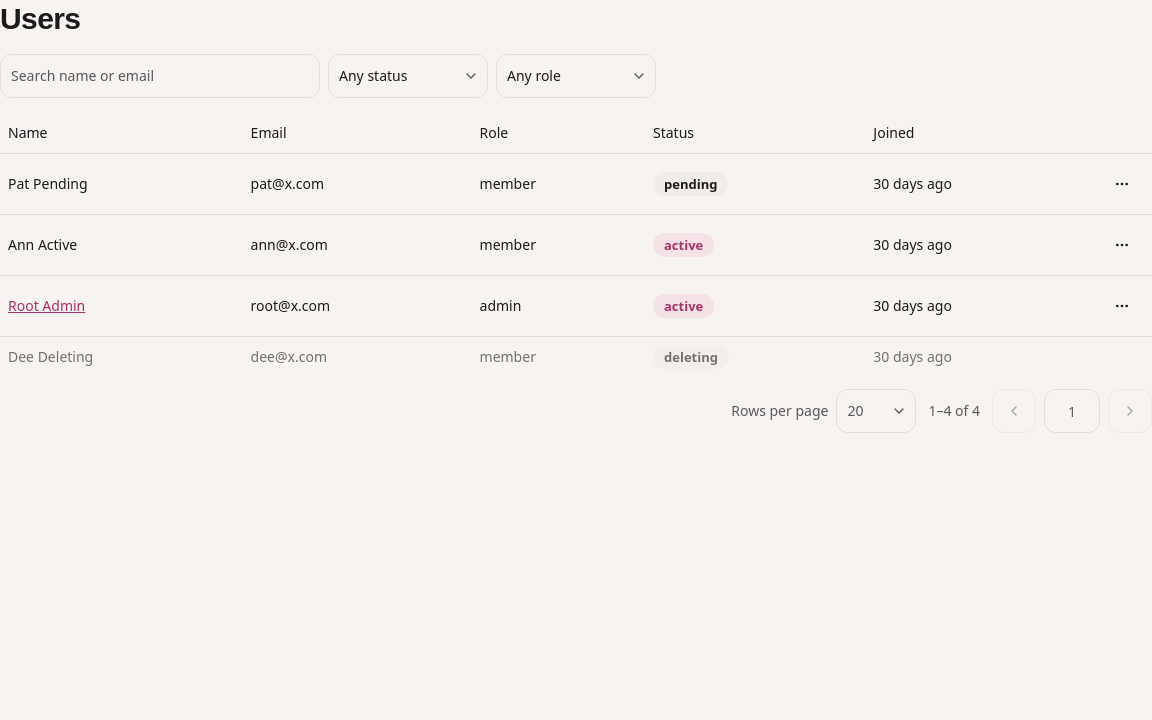
Test: shows the last_admin refusal inline and keeps the row
Click the button named "Actions for Ann Active" at (1122, 245), box [1100,223,1144,267]
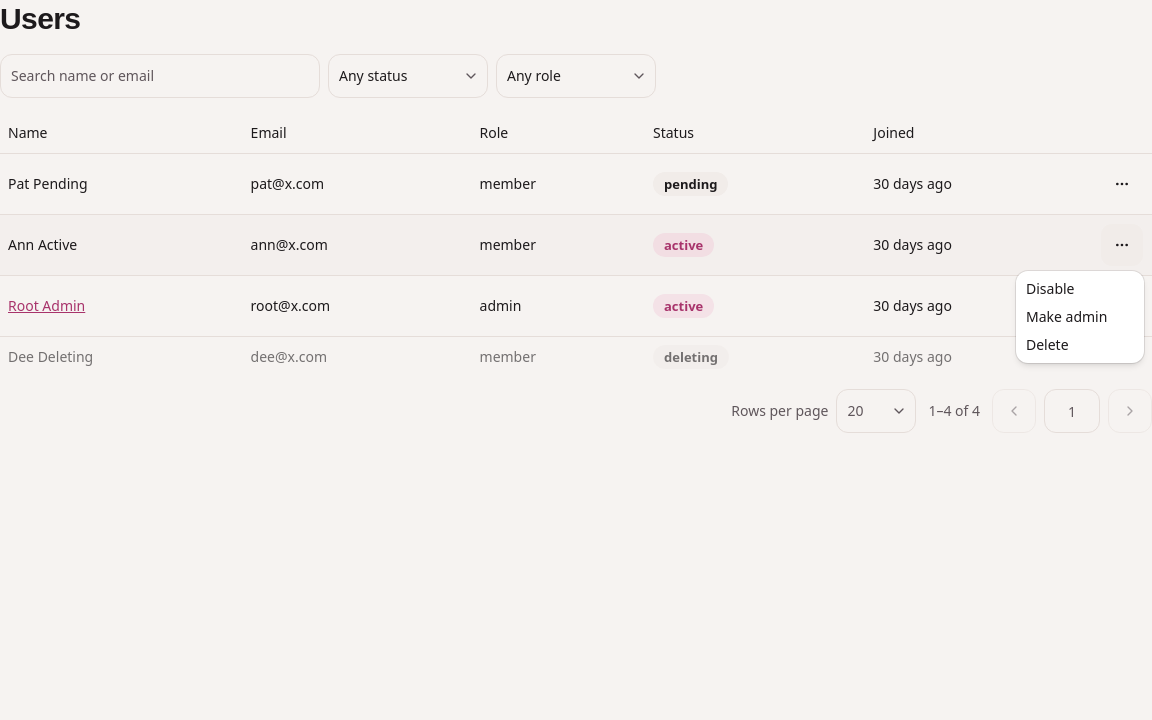
Click the menu item "Disable" at (1050, 288), box [1026,279,1074,298]
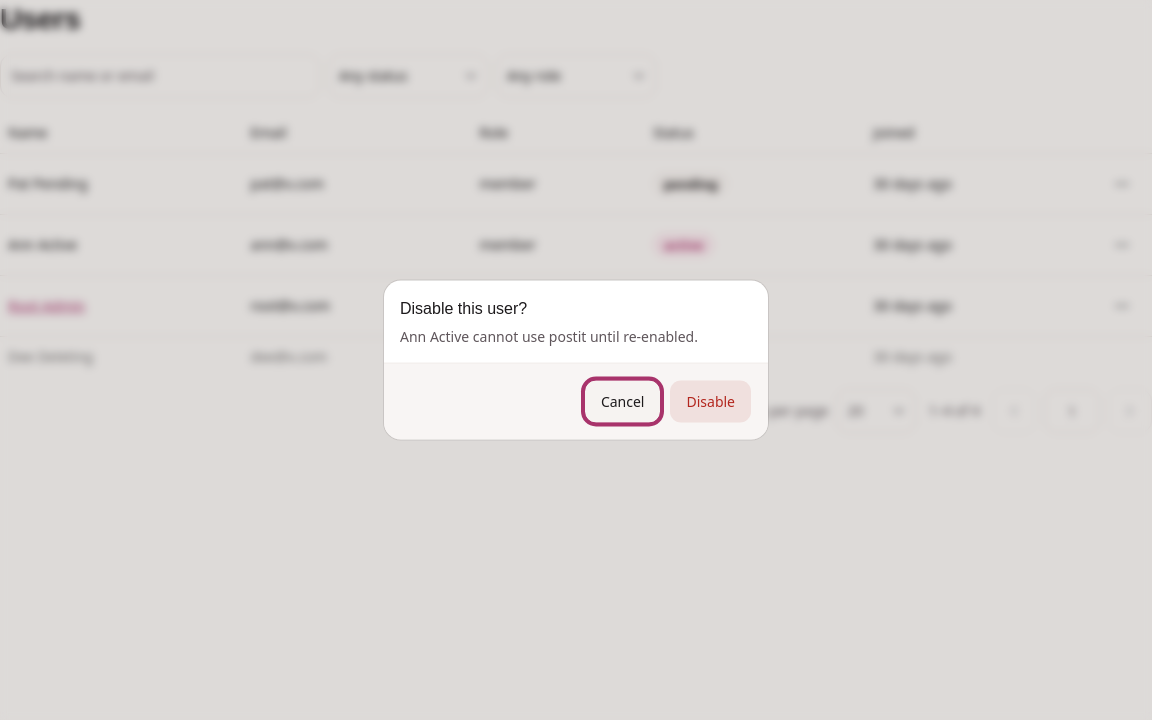
Click the button "Disable" at (711, 402), box [670,380,752,424]
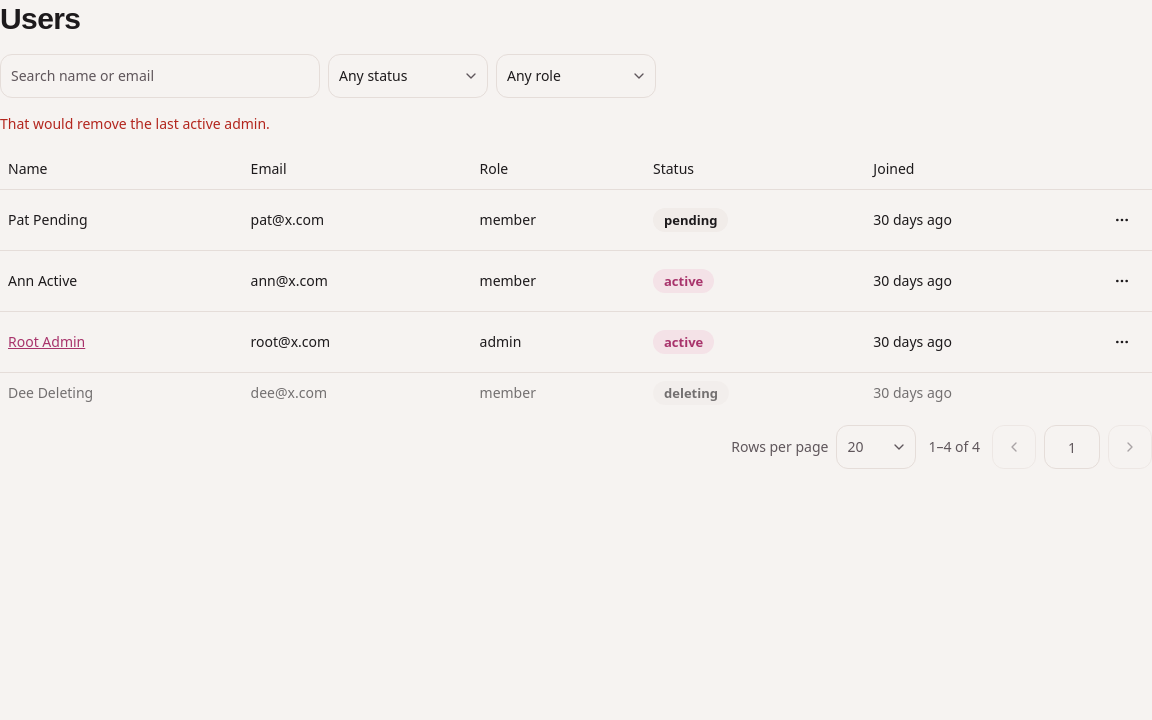
Expected: the text "Ann Active" is shown, [8,271,77,290]
Expected: the message shows "last active admin", [0,114,270,132]
